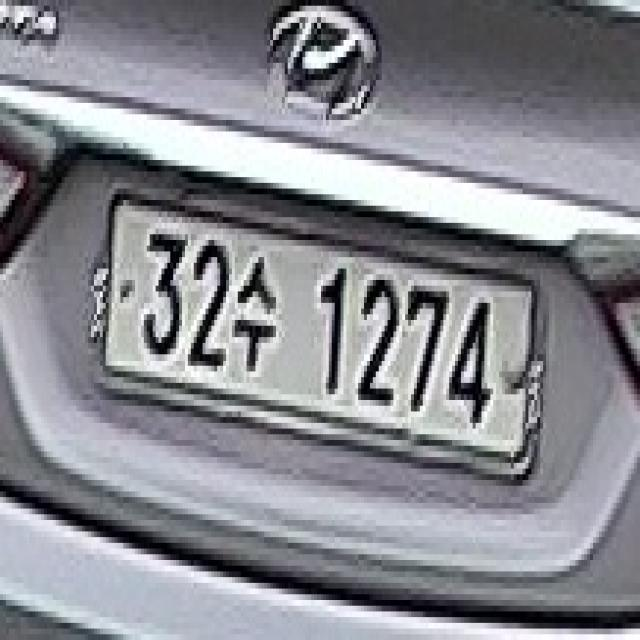1: (317, 263, 349, 400)
2: (352, 274, 400, 412), (185, 235, 229, 372)
3: (141, 223, 188, 360)
4: (449, 292, 493, 428)
7: (402, 280, 449, 423)
license_plate: (100, 189, 537, 474)
su: (232, 246, 276, 377)
